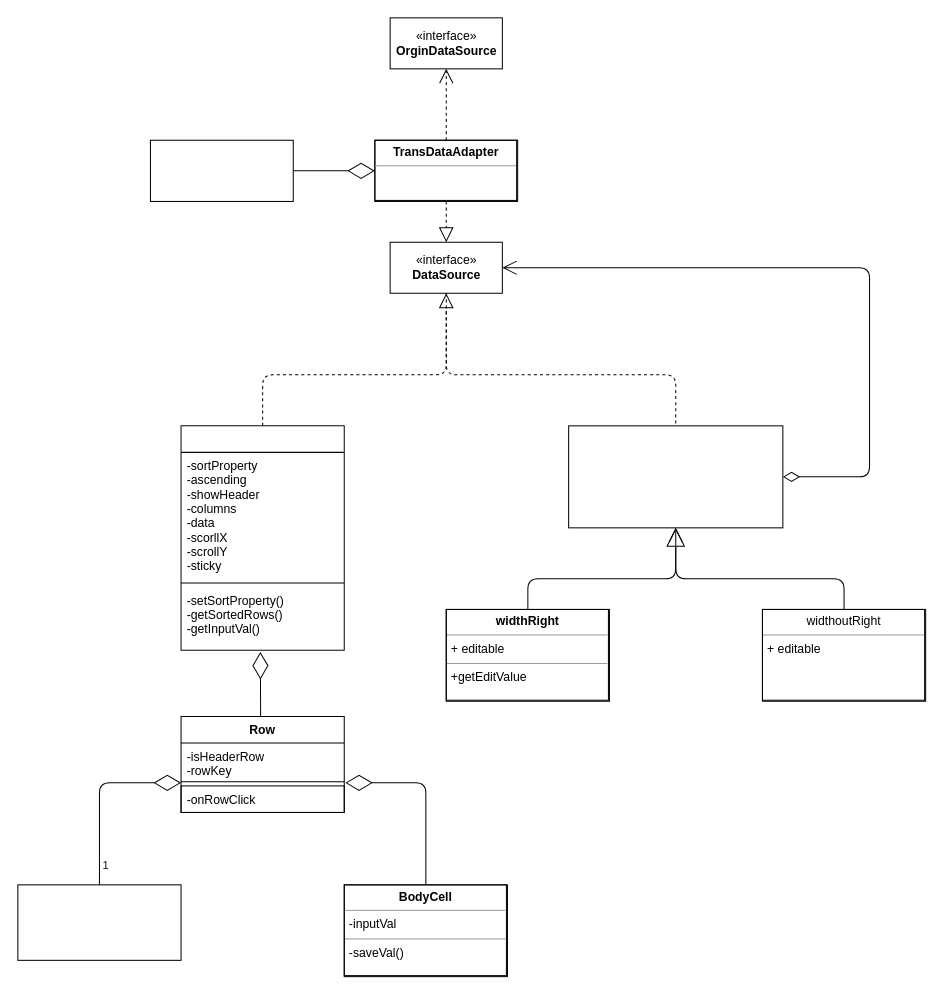
The diagram is 944 pixels wide and 995 high, and some of its shapes have lost their labels. Each missing label, with the box of its shape:
authDecorator +wrappee:DataSource +editable +DataSourceDecorator(DataSource): (568, 425, 783, 528)
HeaderCell: (17, 884, 181, 960)
Table: (180, 425, 344, 650)
TableColumnAdapter: (149, 139, 293, 201)
